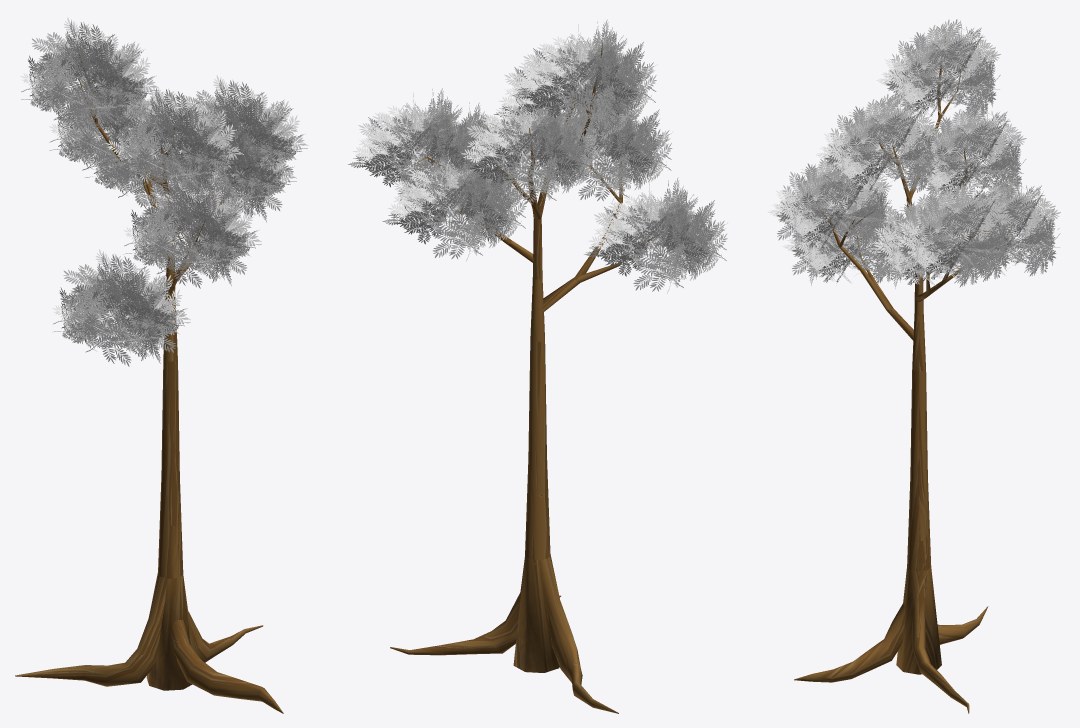
File: Tualang.fbx
The picture shows the model from 3 angles, left to right: view 1: azimuth 30°, elevation 25°; view 2: azimuth 150°, elevation 25°; view 3: azimuth 270°, elevation 25°; orthographic projection. The views are drawn at different scales.
Visible parts, largest first — view 1: Pohon Tualang.005; view 2: Pohon Tualang.005; view 3: Pohon Tualang.005.
Boxes of the visible parts, x1,y1,x2,y2 form: Pohon Tualang.005: [15, 17, 308, 713]; Pohon Tualang.005: [348, 19, 727, 713]; Pohon Tualang.005: [767, 19, 1060, 713].
Bounding box in the file's own units: 1483 × 2993 × 1326.
